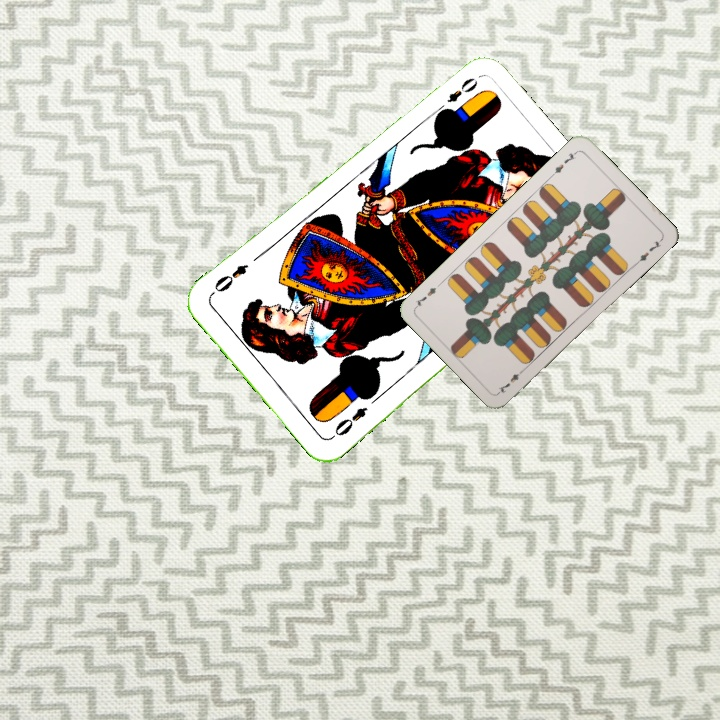E7: (547, 147, 580, 179), (495, 364, 527, 396)
EO: (327, 402, 371, 442), (443, 73, 481, 106)
